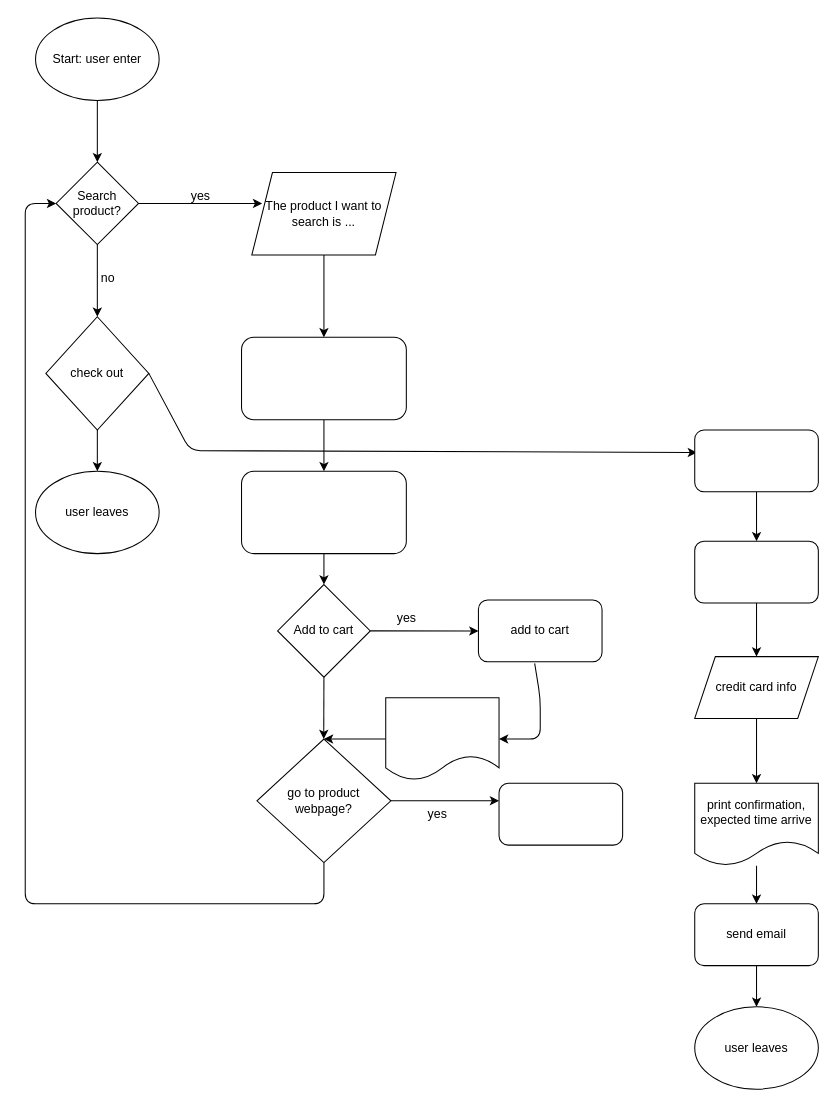
This 836x1107 diagram has some shape labels left out. Each missing label, with the centre of its shape:
"payment" goes at pixel 756 571.
"print out successfully add to cart" goes at pixel 442 738.
"show cart" goes at pixel 756 460.
"show the products" goes at pixel 323 378.
"show web page" goes at pixel 560 813.
"showing a specific product" goes at pixel 323 512.
